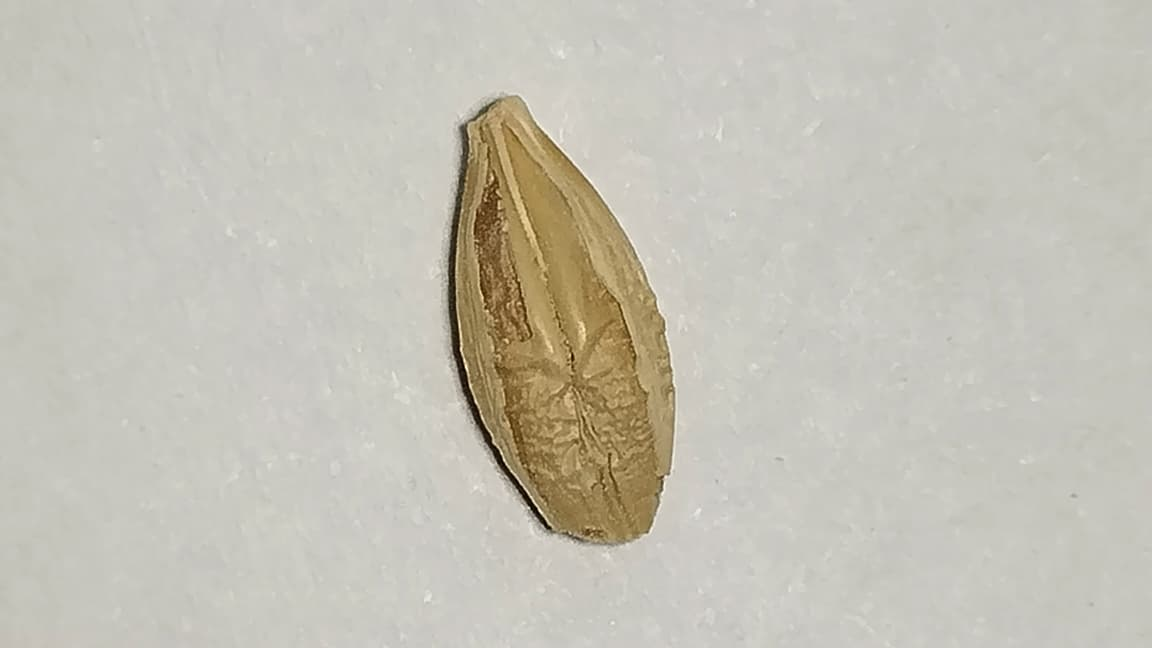damage: (455, 98, 673, 542)
insectdamage: (471, 166, 532, 344), (571, 516, 620, 543)
shriveledseed: (501, 353, 670, 486)
